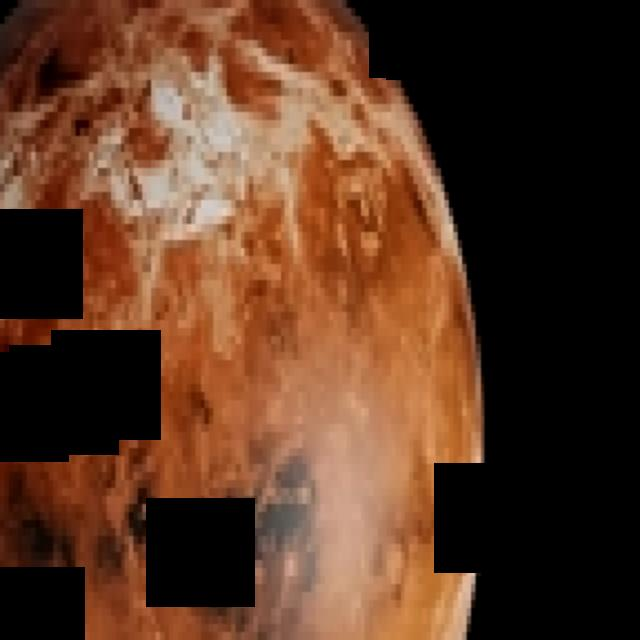Venus: (0, 0, 489, 640)
